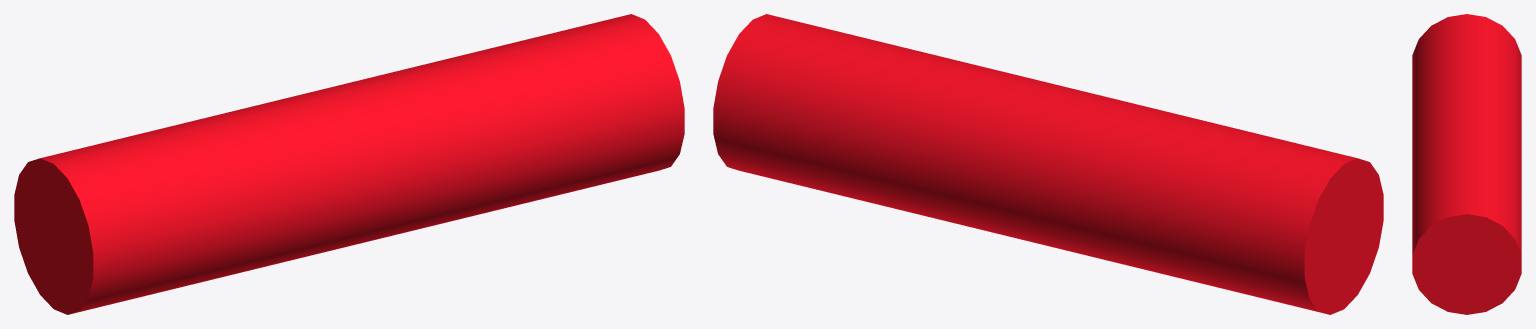
Rendered from Bollot_red.FBX.
The picture shows the model from 3 angles, left to right: view 1: azimuth 30°, elevation 25°; view 2: azimuth 150°, elevation 25°; view 3: azimuth 270°, elevation 25°; orthographic projection. The views are drawn at different scales.
Visible parts, largest first — view 1: Cylinder001; view 2: Cylinder001; view 3: Cylinder001.
Boxes of the visible parts, <box> form: Cylinder001: <box>14,14,684,314</box>; Cylinder001: <box>713,14,1383,314</box>; Cylinder001: <box>1412,14,1521,314</box>.
Bounding box in the file's own units: 1234 × 290 × 286.
